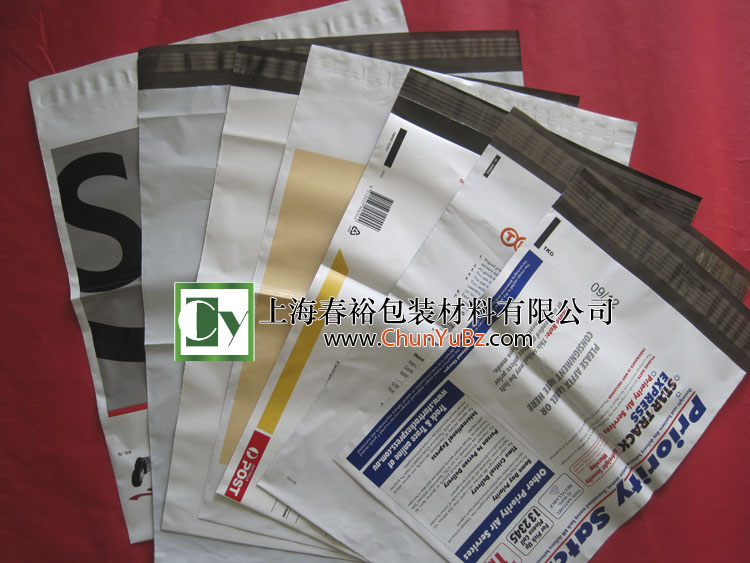Parcel: (30, 33, 750, 562)
